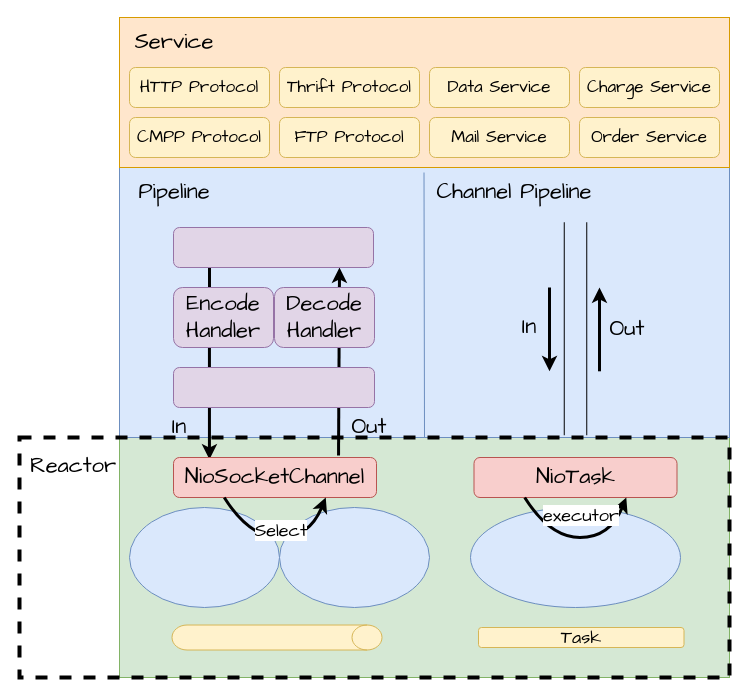
The diagram is 748 pixels wide and 697 high, and some of its shapes have lost their labels. The shapes that lost their labels are listed below. From the top down, each one's box as (x1, y1, x2, y2) in pixels, then its label:
(172, 226, 374, 268): Tail Handler
(172, 366, 374, 408): Head Handler
(128, 506, 280, 608): Server Reactor Pool
(278, 506, 430, 608): Client Reactor Pool
(470, 506, 680, 608): Fix Scheduler Pool
(171, 624, 382, 650): Channel
